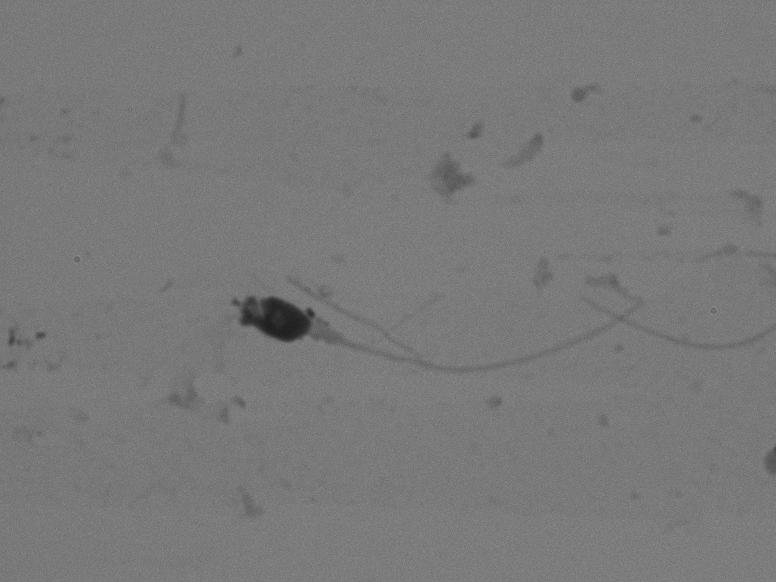Abnormal: (200, 206, 641, 420)
